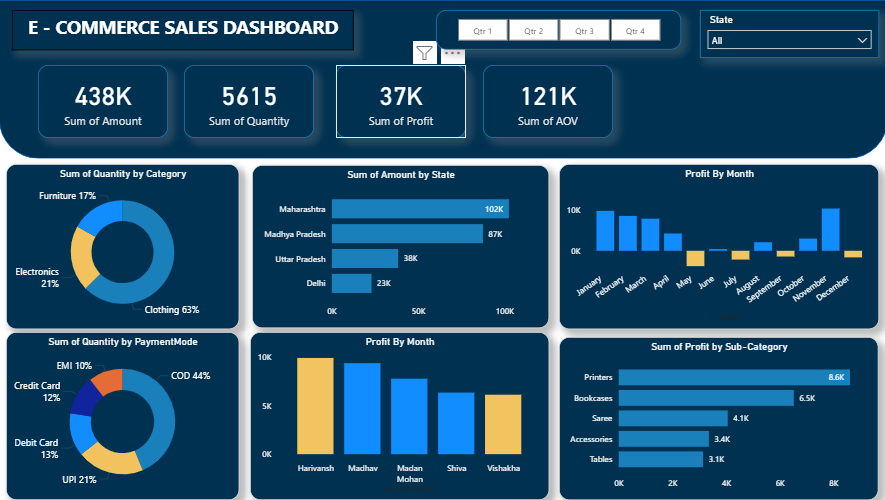

This screenshot's page, from the dashboard's own definition file:
{"tool":"powerbi","page":{"name":"Page 1","canvas":[1280,720],"ordinal":0},"visuals":[{"type":"shape","box":[0,0,1280,228.5],"z":0},{"type":"textbox","box":[18.7,14.4,492.5,57.6],"z":1000},{"type":"columnChart","title":"Profit By Month","fields":{"Category":["Orders.Order Date.Variation.Date Hierarchy.Month"],"Y":["Sum(Details.Profit)"]},"box":[806.4,235.7,460.8,237.6],"z":2000},{"type":"barChart","fields":{"Category":["Details.Sub-Category"],"Y":["Sum(Details.Profit)"]},"box":[806.3,485.5,460.3,235.2],"z":3000},{"type":"donutChart","fields":{"Category":["Details.Category"],"Y":["Sum(Details.Quantity)"]},"box":[10.1,235.7,335.5,237.6],"z":4000},{"type":"donutChart","fields":{"Y":["Sum(Details.Quantity)"],"Category":["Details.PaymentMode"]},"box":[10.1,478.1,335.5,241.9],"z":5000},{"type":"card","fields":{"Values":["Sum(Details.Amount)"]},"box":[56.2,93.6,187.2,105.1],"z":6000},{"type":"card","fields":{"Values":["Sum(Details.Quantity)"]},"box":[266.4,93.6,187.2,105.1],"z":7000},{"type":"card","fields":{"Values":["Sum(Details.Profit)"]},"box":[485.3,93.6,187.2,105.1],"z":8000},{"type":"card","fields":{"Values":["Sum(Details.AOV)"]},"box":[697,93.6,187.2,105.1],"z":9000},{"type":"barChart","fields":{"Y":["Sum(Details.Amount)"],"Category":["Orders.State"]},"box":[364.3,237.1,427.7,234.7],"z":10000},{"type":"columnChart","title":"Profit By Month","fields":{"Y":["Sum(Details.Amount)"],"Category":["Orders.CustomerName"]},"box":[361.4,478.1,430.6,241.9],"z":11000},{"type":"slicer","fields":{"Values":["Orders.Order Date.Variation.Date Hierarchy.Quarter"]},"box":[629.9,15.1,352.8,57.1],"z":12000},{"type":"slicer","fields":{"Values":["Orders.State"]},"box":[1009.4,14.4,257.8,69.1],"z":13000}]}

Visuals, with their boxes in screenshot pixels (x1, y1, x2, y2), scaled from the page's 1280x720 canvas onto the 885x500 screenshot:
shape: [0, 0, 884, 159]
textbox: [13, 10, 353, 50]
"Profit By Month" columnChart: [558, 164, 876, 329]
barChart - Details.Sub-Category x Sum(Details.Profit): [557, 337, 876, 499]
donutChart - Details.Category x Sum(Details.Quantity): [7, 164, 239, 329]
donutChart - Sum(Details.Quantity) x Details.PaymentMode: [7, 332, 239, 499]
card - Sum(Details.Amount): [39, 65, 168, 138]
card - Sum(Details.Quantity): [184, 65, 314, 138]
card - Sum(Details.Profit): [336, 65, 465, 138]
card - Sum(Details.AOV): [482, 65, 611, 138]
barChart - Sum(Details.Amount) x Orders.State: [252, 165, 548, 328]
"Profit By Month" columnChart: [250, 332, 548, 499]
slicer - Orders.Order Date.Variation.Date Hierarchy.Quarter: [436, 10, 679, 50]
slicer - Orders.State: [698, 10, 876, 58]
